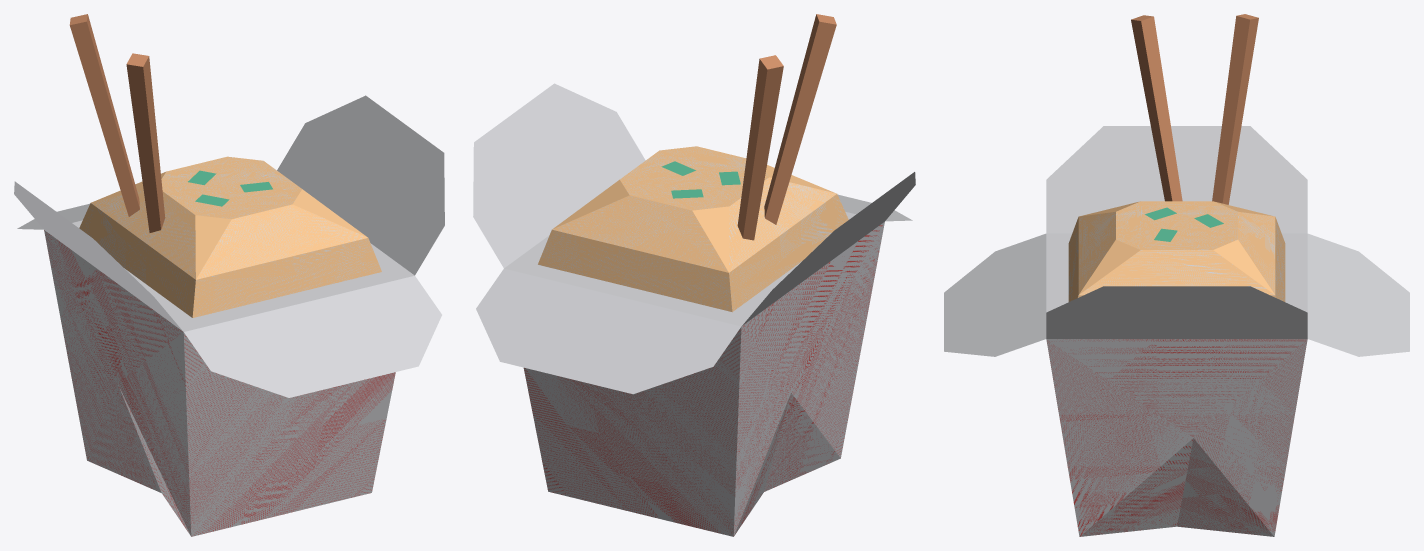
The model's file is chinese.dae.
3 renders of one model, left to right at view 1: azimuth 30°, elevation 25°; view 2: azimuth 150°, elevation 25°; view 3: azimuth 270°, elevation 25°, orthographic. The views are drawn at different scales.
Parts seen in each view (by area): view 1: chinese, chopstick (×2); view 2: chinese, chopstick (×2); view 3: chinese, chopstick (×2).
Boxes of the visible parts, bbox=[...] form: chinese: bbox=[14, 95, 444, 536]; chopstick (×2): bbox=[69, 14, 165, 232]; chinese: bbox=[473, 83, 915, 536]; chopstick (×2): bbox=[737, 14, 836, 240]; chinese: bbox=[944, 126, 1409, 536]; chopstick (×2): bbox=[1131, 14, 1258, 204].
Bounding box in the file's own units: 0.4539 × 0.5671 × 0.5575.
